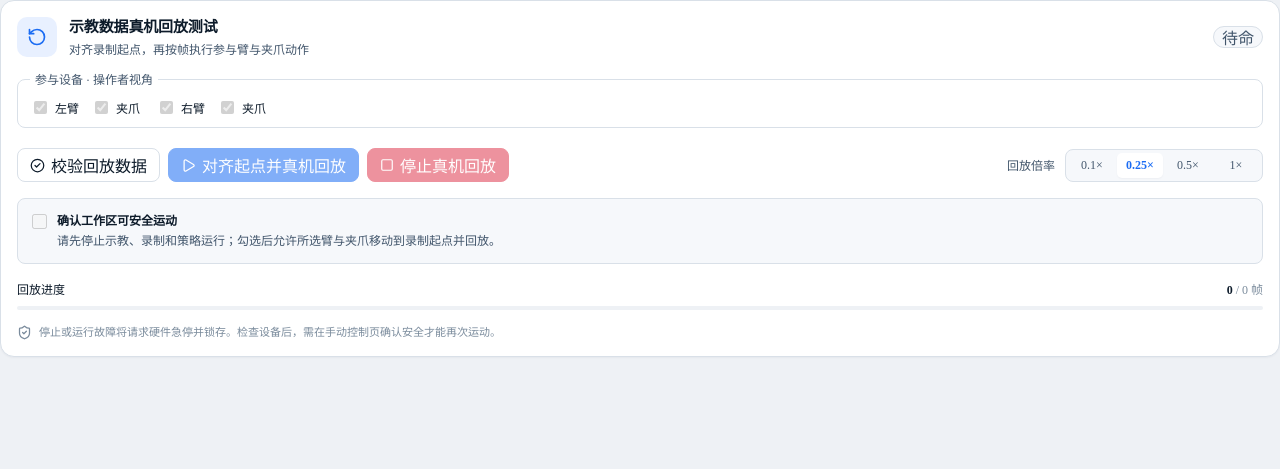
Test: 按选择的倍率规划并显示未验证的示教参数，改倍率需重新校验
Click the button "校验回放数据" at (88, 165), box [17, 148, 160, 182]
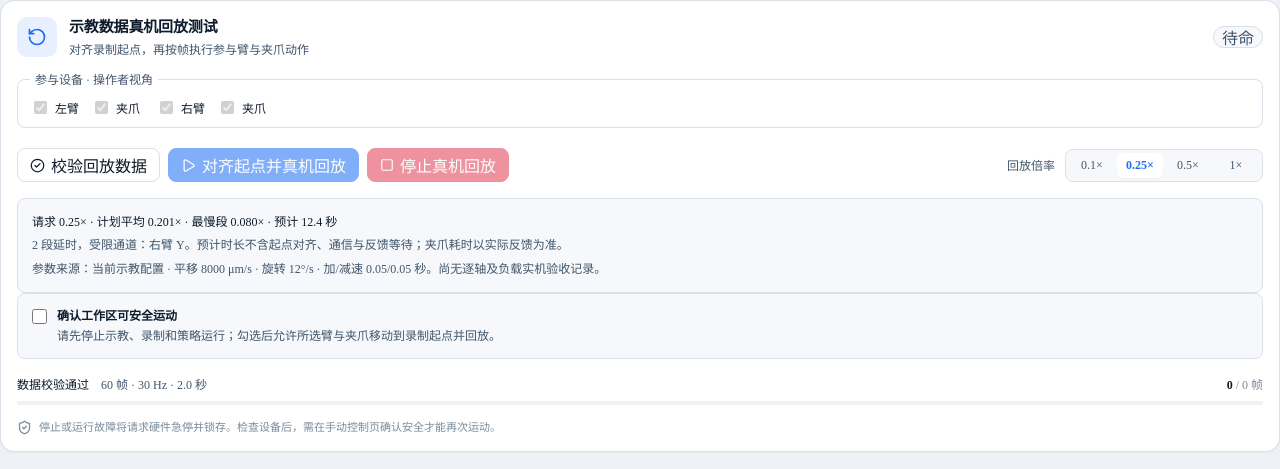
Check: the element named "回放时间规划" shows "预计 12.4 秒", box [17, 198, 1263, 293]
Check: the element named "回放时间规划" shows "2 段延时，受限通道：右臂 Y", box [32, 238, 185, 252]
Check: the element named "回放时间规划" shows "当前示教配置 · 平移 8000 μm/s · 旋转 12°/s", box [17, 198, 1263, 293]
Click the checkbox labelled "确认工作区可安全运动 请先停止示教、录制和策略运行；勾选后允许所选臂与夹爪移动到录制起点并回放。" at (40, 317), box [32, 309, 47, 324]
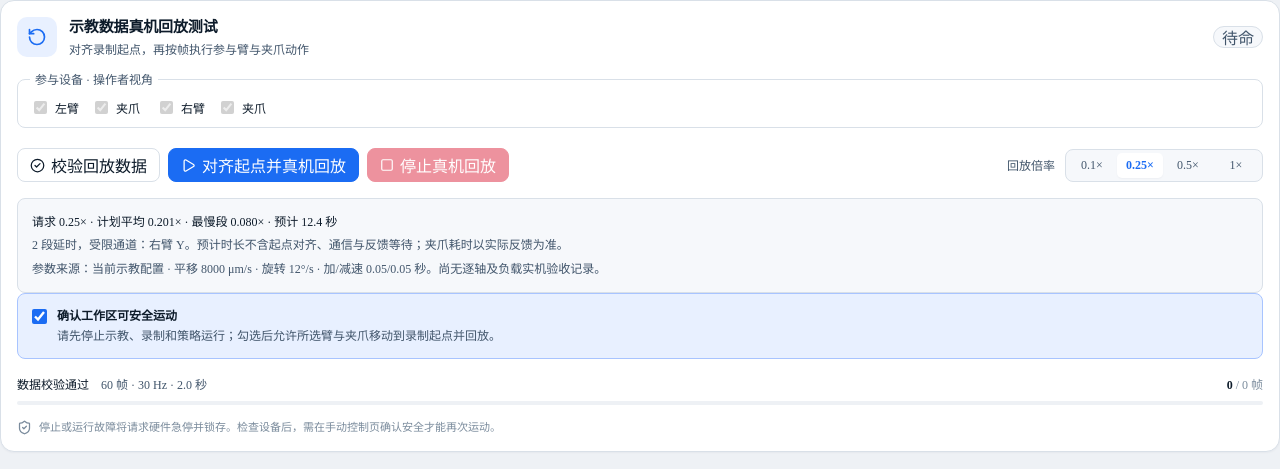
Click the radio button named "0.5 倍速" at (1188, 164), box [1177, 158, 1199, 172]
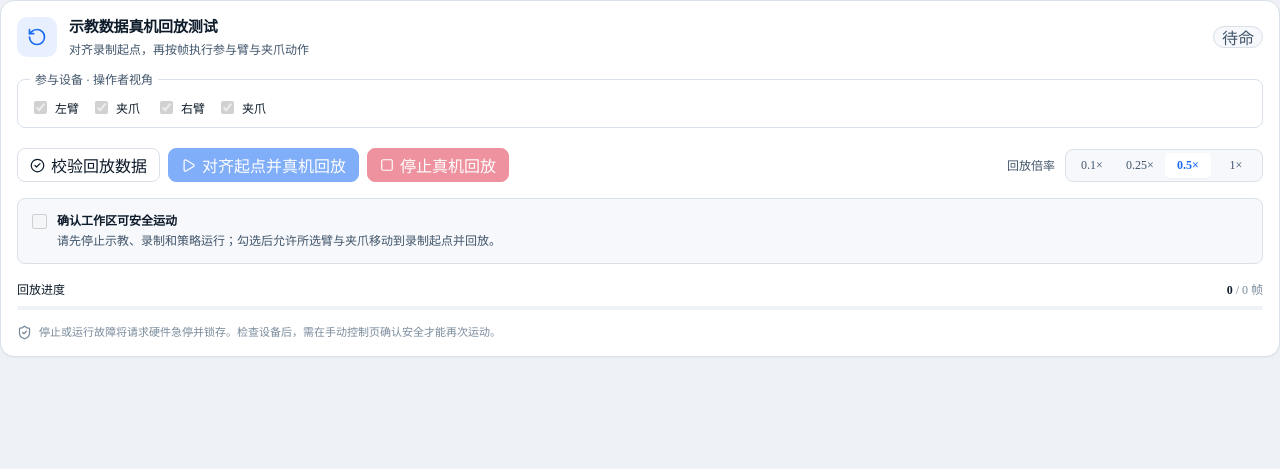
Check: the checkbox labelled "确认工作区可安全运动 请先停止示教、录制和策略运行；勾选后允许所选臂与夹爪移动到录制起点并回放。" is not checked, box [32, 214, 47, 229]
Check: the button "对齐起点并真机回放" is disabled, box [168, 148, 359, 182]
Check: the field labelled "回放时间规划" is gone
